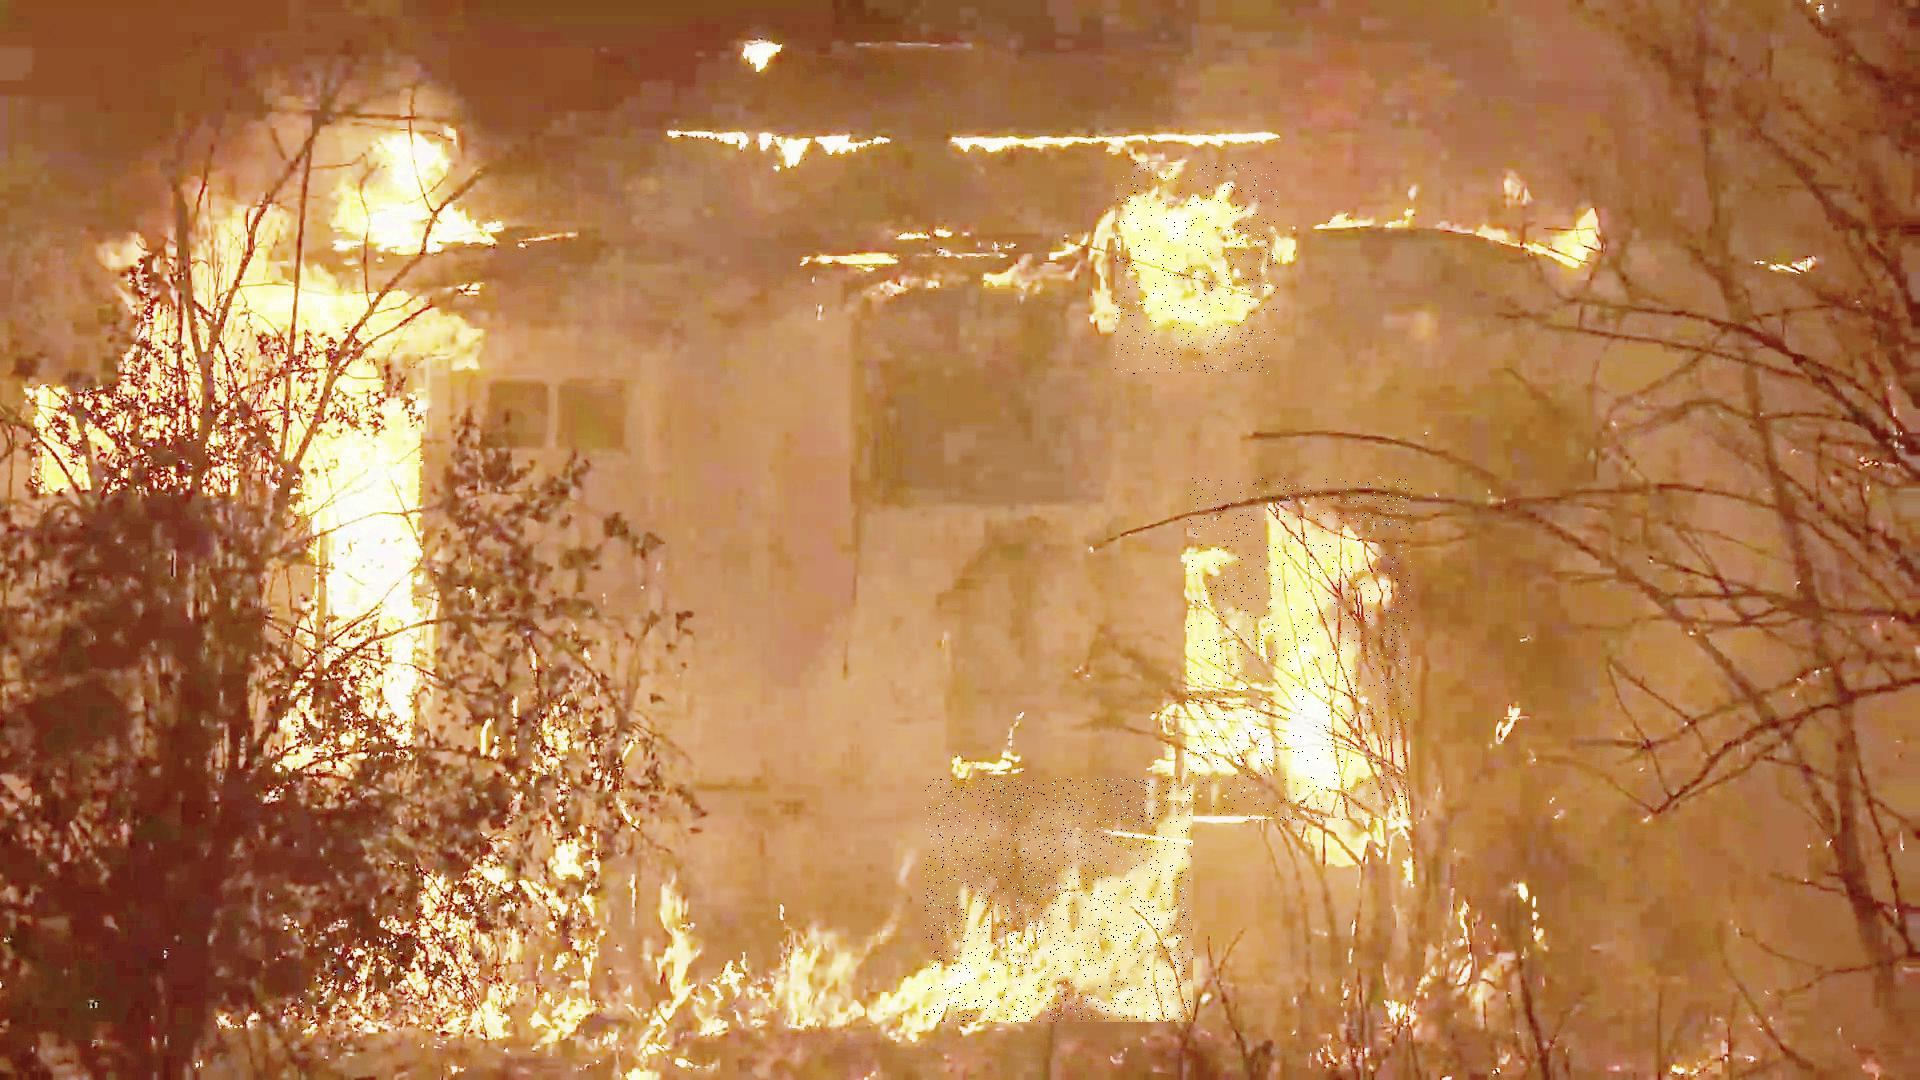fire: (1188, 479, 1412, 820), (924, 778, 1193, 1022), (1116, 162, 1279, 375)
